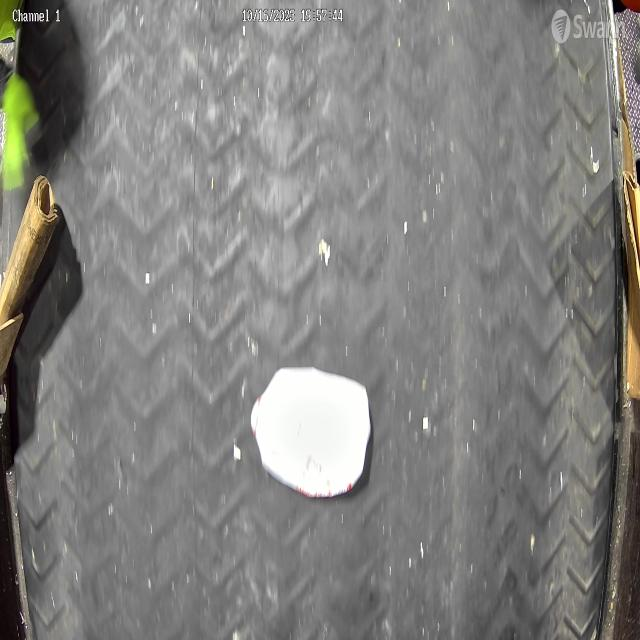milk_jug: (246, 357, 371, 492)
